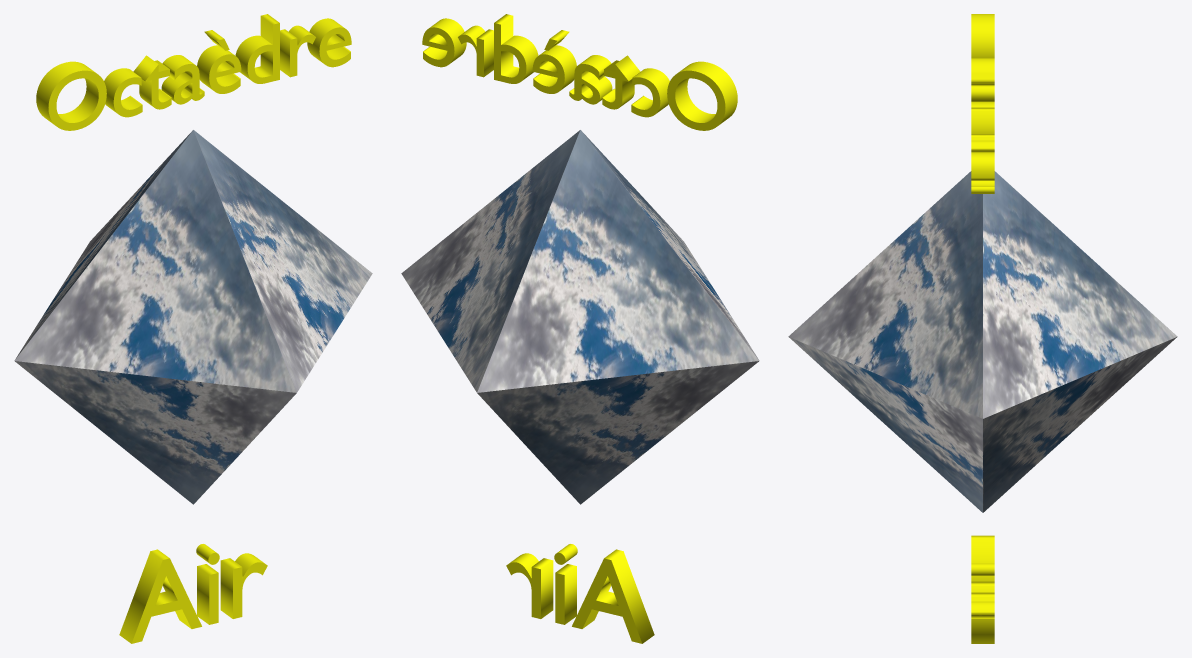
File: Octaedre.glb
The picture shows the model from 3 angles, left to right: view 1: azimuth 30°, elevation 25°; view 2: azimuth 150°, elevation 25°; view 3: azimuth 270°, elevation 25°; orthographic projection. The views are drawn at different scales.
Visible parts, largest first — view 1: Cone.003, Text.007, Text.002; view 2: Cone.003, Text.007, Text.002; view 3: Cone.003, Text.007, Text.002.
Part boxes in pixels (box(x1,y1,x2,y2)): Cone.003: box(14, 130, 372, 504); Text.007: box(36, 14, 351, 130); Text.002: box(119, 544, 267, 643); Cone.003: box(401, 130, 759, 504); Text.007: box(422, 14, 737, 130); Text.002: box(506, 544, 654, 643); Cone.003: box(788, 171, 1177, 512); Text.007: box(971, 14, 994, 193); Text.002: box(971, 535, 994, 643).
Bounding box in the file's own units: 3.38 × 5.27 × 3.38.
Materials: 2 (1 with a texture image).
